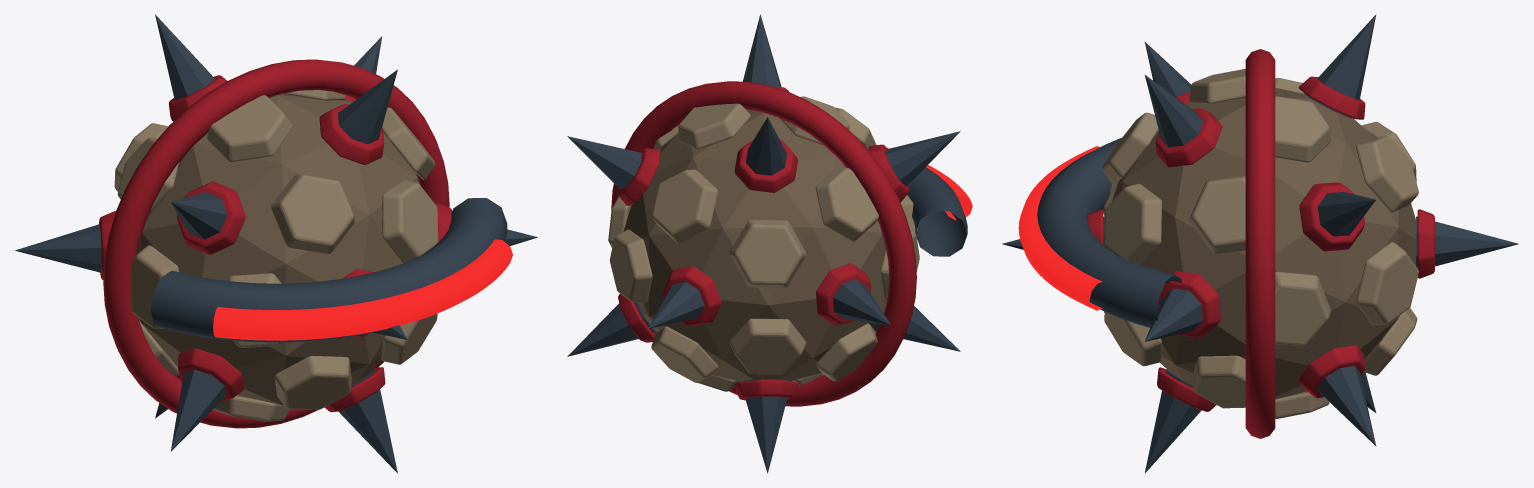
Rendered from roller.glb.
3 renders of one model, left to right at view 1: azimuth 30°, elevation 25°; view 2: azimuth 150°, elevation 25°; view 3: azimuth 270°, elevation 25°, orthographic. The views are drawn at different scales.
Parts seen in each view (by area): view 1: roller_core, roller_band, roller_visor_frame, roller_visor, roller_plate_18, roller_plate_13, roller_plate_19, roller_plate_16, roller_spike_7, roller_spike_9, roller_spike_3, roller_spike_4 (+14 smaller); view 2: roller_core, roller_band, roller_plate_3, roller_visor_frame, roller_plate_4, roller_plate_2, roller_plate_8, roller_plate_1, roller_plate_9, roller_plate_0, roller_plate_7, roller_spike_5 (+20 smaller); view 3: roller_core, roller_band, roller_visor_frame, roller_visor, roller_plate_19, roller_plate_1, roller_plate_14, roller_plate_5, roller_plate_4, roller_plate_9, roller_plate_10, roller_spike_4 (+20 smaller).
Part boxes in pixels (left/top/right/bottom): roller_core: left=137, top=93, right=420, bottom=405; roller_band: left=103, top=59, right=449, bottom=428; roller_visor_frame: left=150, top=198, right=507, bottom=342; roller_visor: left=213, top=239, right=512, bottom=340; roller_plate_18: left=271, top=173, right=355, bottom=254; roller_plate_13: left=207, top=95, right=292, bottom=162; roller_plate_19: left=382, top=180, right=438, bottom=263; roller_plate_16: left=274, top=355, right=351, bottom=409; roller_spike_7: left=170, top=369, right=226, bottom=451; roller_spike_9: left=338, top=69, right=397, bottom=144; roller_spike_3: left=15, top=224, right=101, bottom=272; roller_spike_4: left=155, top=14, right=214, bottom=100; roller_core: left=623, top=109, right=887, bottom=381; roller_band: left=611, top=81, right=916, bottom=406; roller_plate_3: left=729, top=219, right=806, bottom=287; roller_visor_frame: left=876, top=145, right=967, bottom=256; roller_plate_4: left=651, top=169, right=717, bottom=243; roller_plate_2: left=729, top=318, right=806, bottom=374; roller_plate_8: left=815, top=167, right=878, bottom=241; roller_plate_1: left=609, top=229, right=652, bottom=303; roller_plate_9: left=678, top=103, right=750, bottom=149; roller_plate_0: left=651, top=326, right=718, bottom=382; roller_plate_7: left=816, top=323, right=877, bottom=381; roller_spike_5: left=567, top=136, right=657, bottom=197; roller_core: left=1112, top=88, right=1415, bottom=399; roller_band: left=1245, top=49, right=1275, bottom=438; roller_visor_frame: left=1037, top=138, right=1181, bottom=327; roller_visor: left=1018, top=146, right=1102, bottom=310; roller_plate_19: left=1104, top=183, right=1161, bottom=264; roller_plate_1: left=1356, top=242, right=1418, bottom=325; roller_plate_14: left=1189, top=175, right=1245, bottom=254; roller_plate_5: left=1275, top=271, right=1330, bottom=346; roller_plate_4: left=1356, top=136, right=1418, bottom=212; roller_plate_9: left=1275, top=96, right=1331, bottom=162; roller_plate_10: left=1191, top=355, right=1245, bottom=408; roller_spike_4: left=1304, top=14, right=1376, bottom=118.
Bounding box in the file's own units: 1.34 × 1.28 × 1.5.
